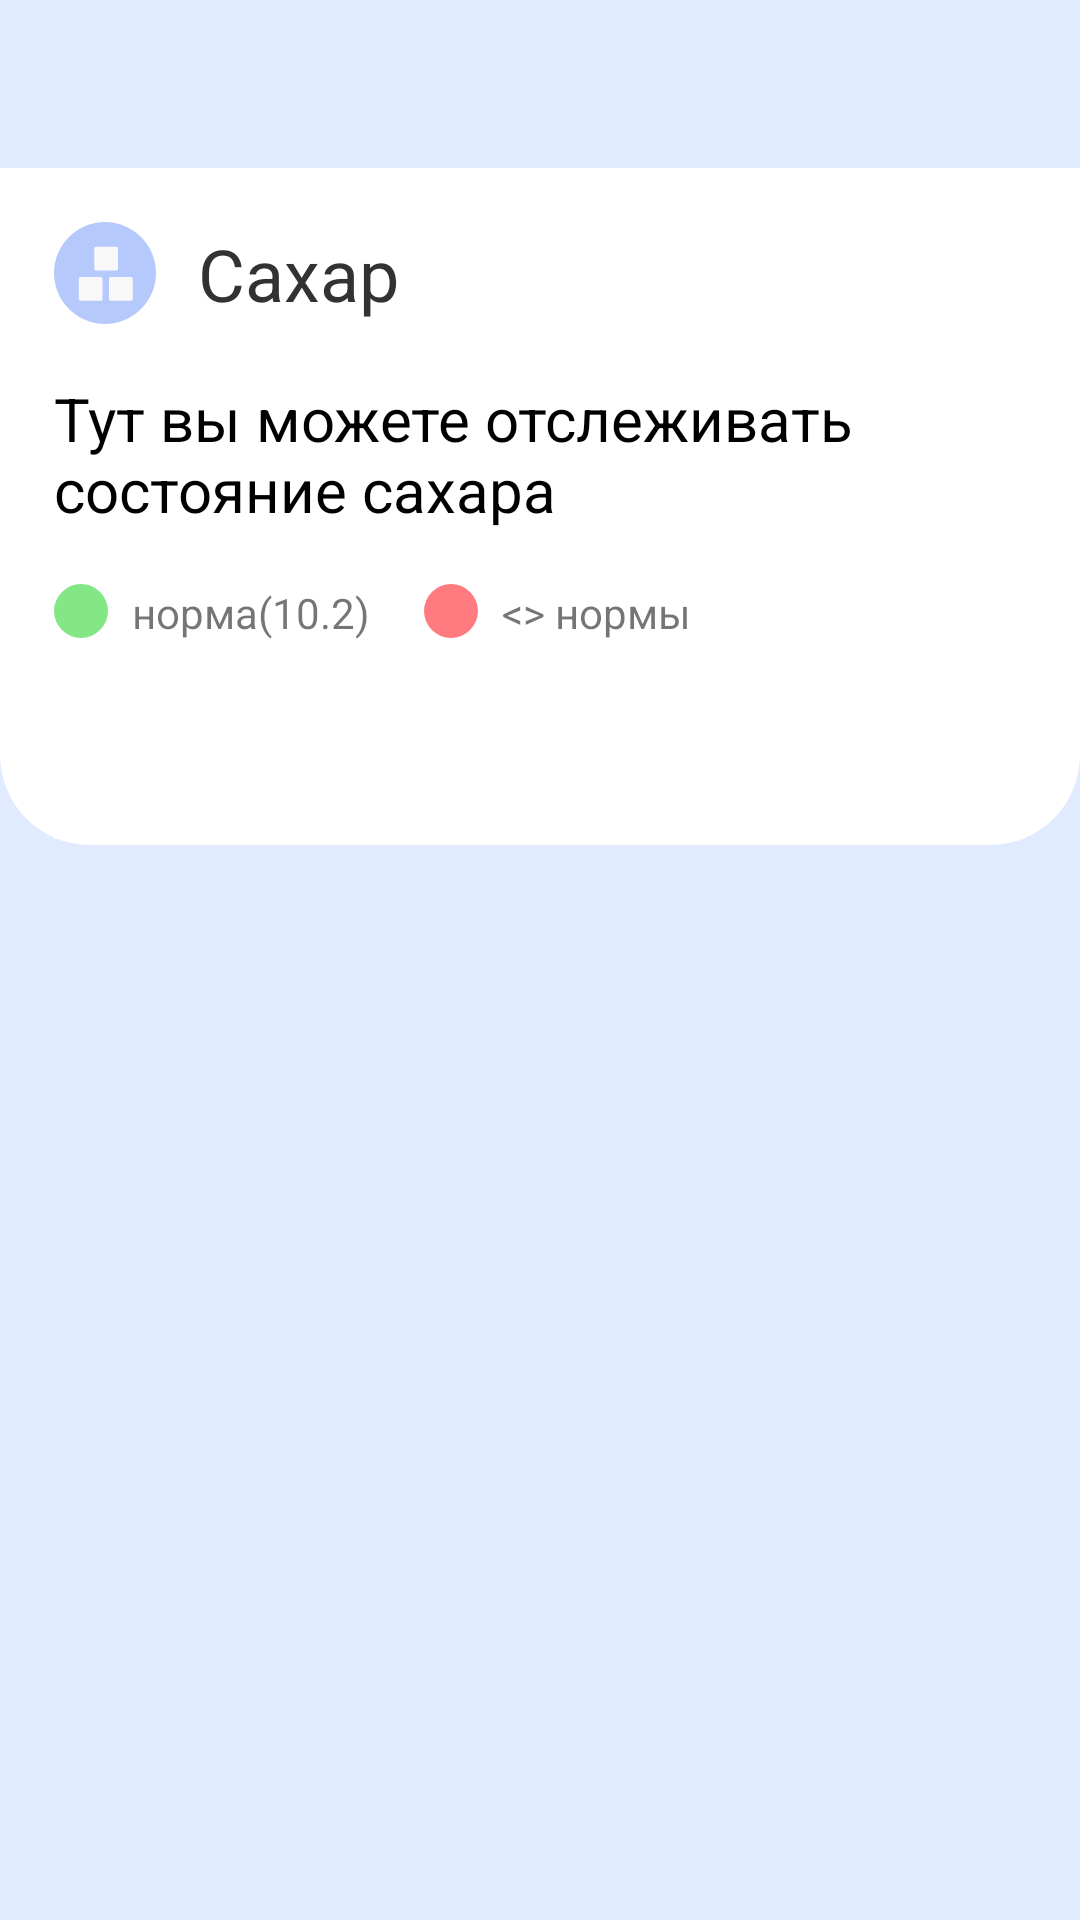

Point at icon controls on the screen. Image size 1080 x 1920, points as (x,y).
widget sugar: (105,273)
